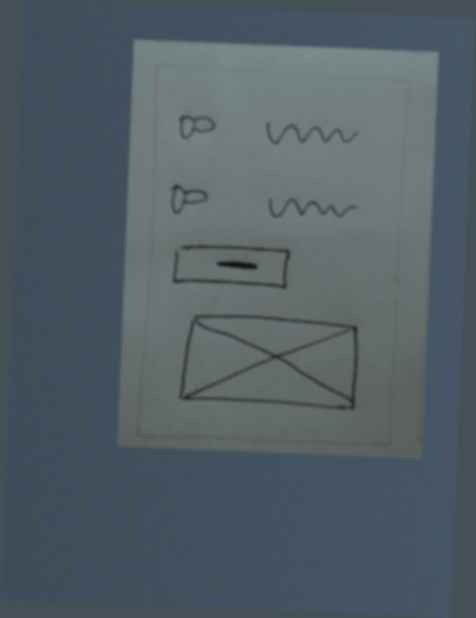button: (166, 238, 293, 298)
image: (174, 305, 368, 420)
switch: (172, 106, 222, 144), (165, 178, 209, 221)
text: (260, 114, 365, 156), (262, 187, 361, 228)
